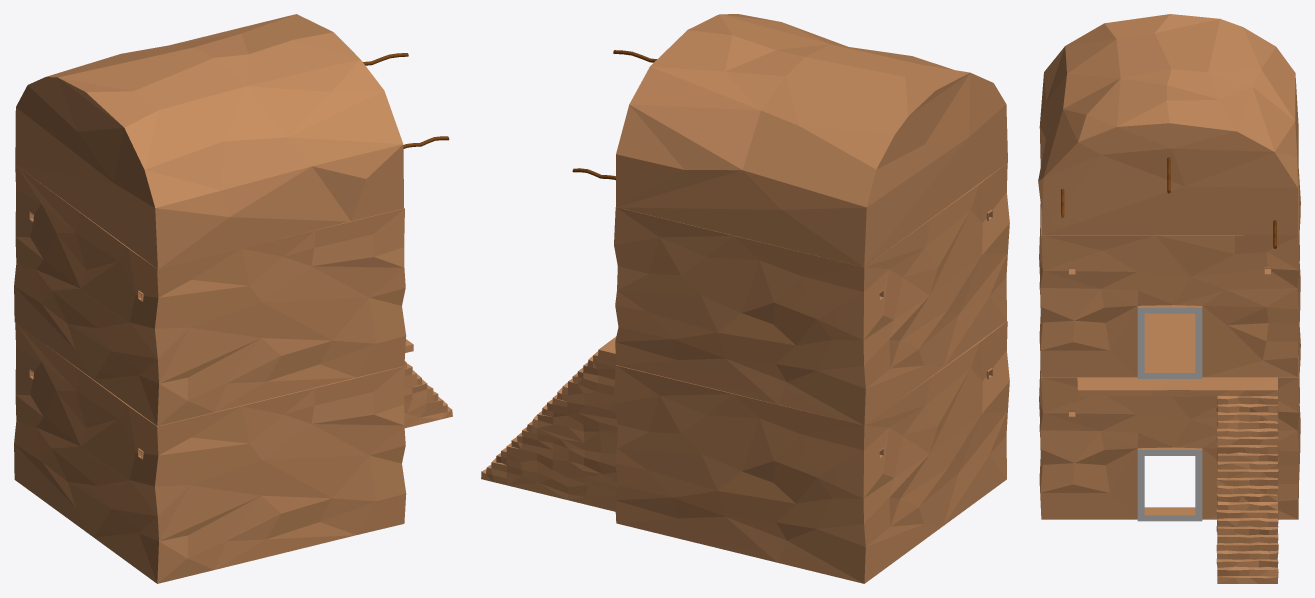
Rendered from Tunisia1_colored_test (5).fbx.
3 views of the same model, side by side, from view 1: azimuth 30°, elevation 25°; view 2: azimuth 150°, elevation 25°; view 3: azimuth 270°, elevation 25° (orthographic). The views are drawn at different scales.
Parts seen in each view (by area): view 1: Tunisia 1; view 2: Tunisia 1; view 3: Tunisia 1.
Part boxes in pixels (<box>): Tunisia 1: <box>14,14,452,583</box>; Tunisia 1: <box>481,14,1009,583</box>; Tunisia 1: <box>1038,14,1300,583</box>.
Size of the model in its own units: 1566 by 1675 by 996.
Materials: 1 (1 with a texture image).
